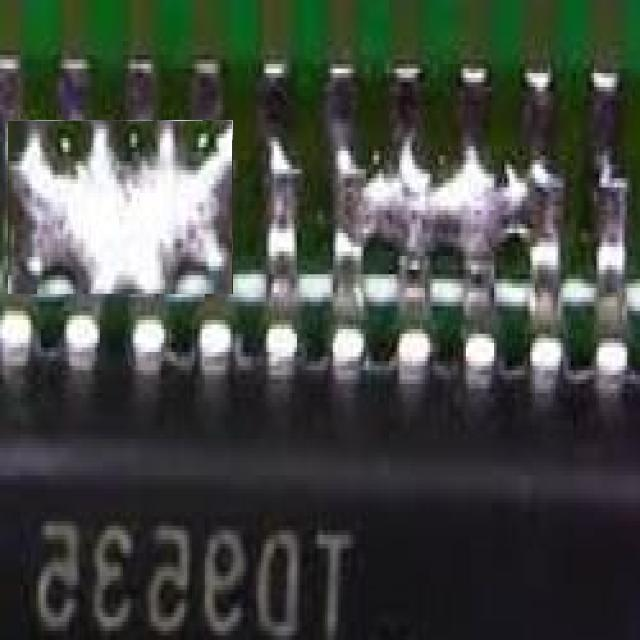Short_circuit: (9, 120, 231, 294)
